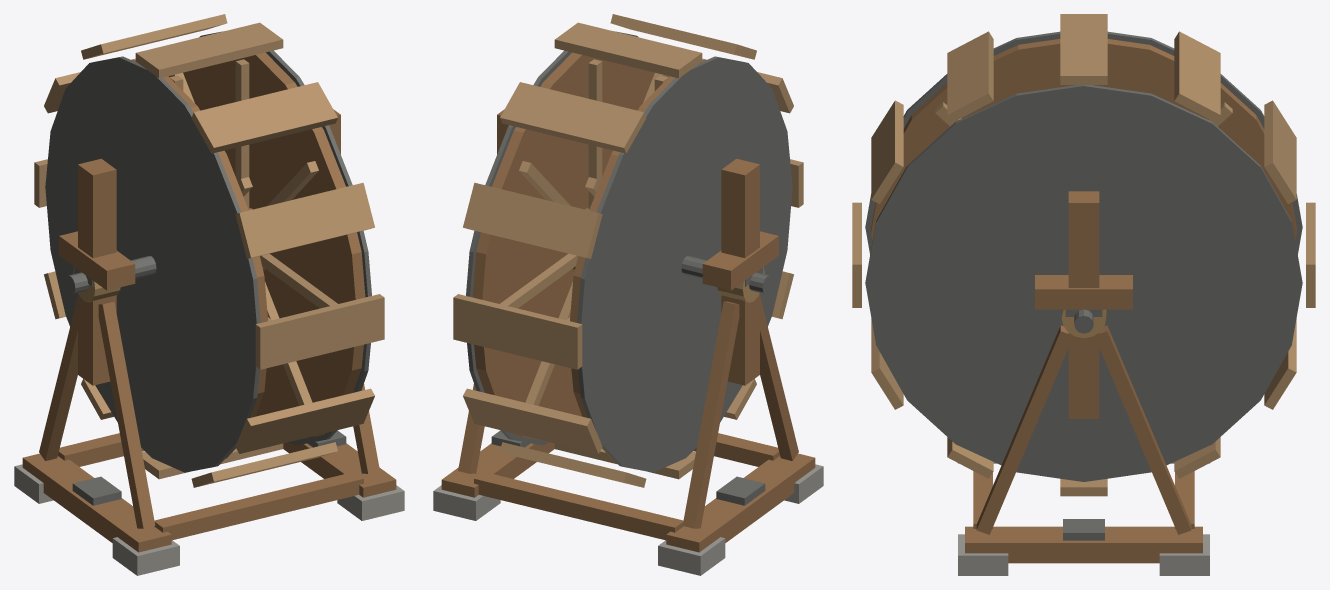
File: vf_water_wheel.glb
The picture shows the model from 3 angles, left to right: view 1: azimuth 30°, elevation 25°; view 2: azimuth 150°, elevation 25°; view 3: azimuth 270°, elevation 25°; orthographic projection. The views are drawn at different scales.
Parts seen in each view (by area): view 1: Rotor_Iron, Rotor_OakLight, Static_Oak, Rotor_Oak, Static_Stone, Static_Iron; view 2: Rotor_Iron, Rotor_OakLight, Static_Oak, Rotor_Oak, Static_Stone, Static_Iron; view 3: Rotor_Iron, Static_Oak, Rotor_OakLight, Rotor_Oak, Static_Stone, Static_Iron.
Part boxes in pixels (x1,y1,x2,y2): Rotor_Iron: [45, 31, 371, 472]; Rotor_OakLight: [34, 14, 384, 487]; Static_Oak: [22, 109, 396, 552]; Rotor_Oak: [131, 52, 365, 458]; Static_Stone: [14, 464, 404, 575]; Static_Iron: [72, 267, 346, 505]; Rotor_Iron: [466, 31, 792, 472]; Rotor_OakLight: [453, 14, 803, 487]; Static_Oak: [441, 109, 815, 552]; Rotor_Oak: [472, 52, 706, 458]; Static_Stone: [433, 464, 823, 575]; Static_Iron: [491, 267, 765, 505]; Rotor_Iron: [865, 31, 1302, 481]; Static_Oak: [965, 191, 1202, 563]; Rotor_OakLight: [852, 14, 1315, 496]; Rotor_Oak: [871, 39, 1296, 240]; Static_Stone: [958, 462, 1209, 575]; Static_Iron: [1063, 309, 1104, 540].
Size of the model in its own units: 2.35 by 3.65 by 3.31.
